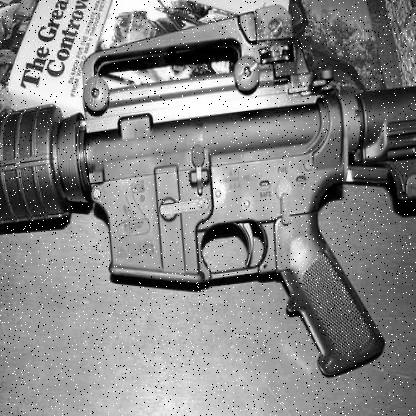rifle: (0, 8, 406, 367)
